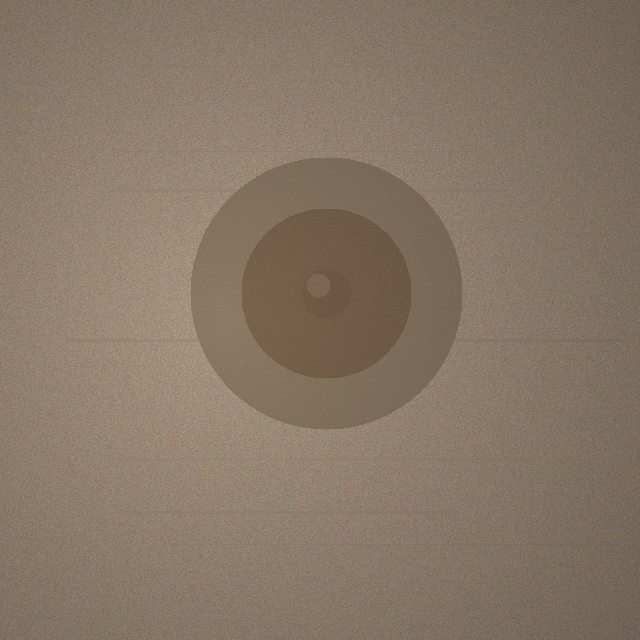good: (190, 157, 462, 429)
